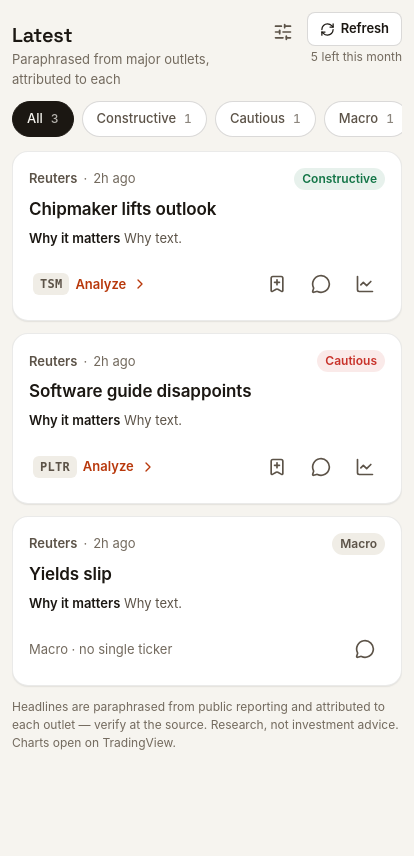
Test case: HeadlinesPane › lists attributed headlines and filters them by lean
This screenshot has width=414, height=856.
Expected: the heading "Chipmaker lifts outlook" is shown, 29,199 -> 216,219
Expected: the text "Reuters" is shown 3 times, 29,169 -> 77,189; 29,352 -> 77,371; 29,534 -> 77,554
Click the button "Cautious 1" at (265, 119), box 215,101 -> 316,137
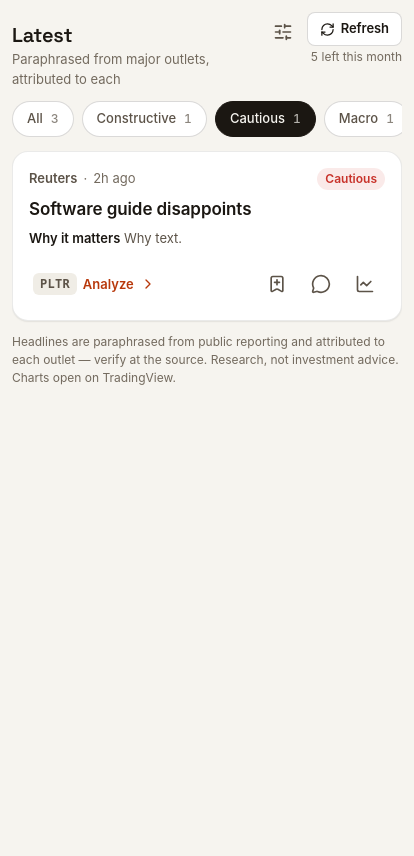
Expected: the heading "Software guide disappoints" is shown, 29,199 -> 251,219
Now the heading "Chipmaker lifts outlook" is gone
